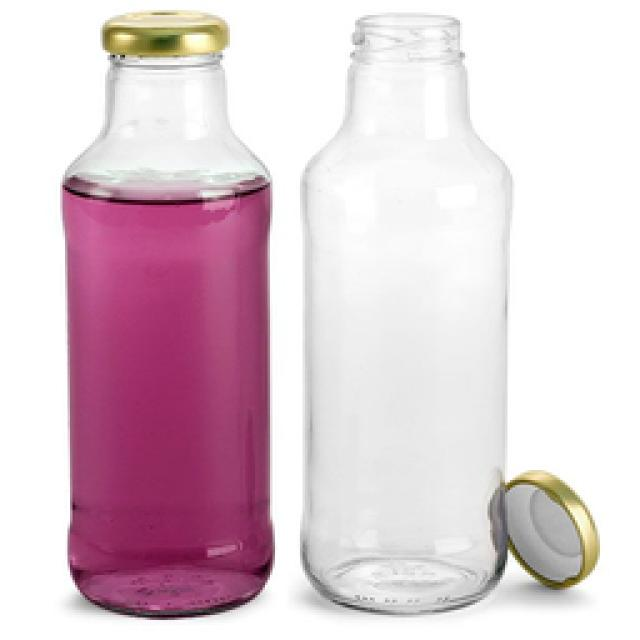glass_beverage_bottles: (65, 7, 280, 620), (302, 15, 505, 610)
